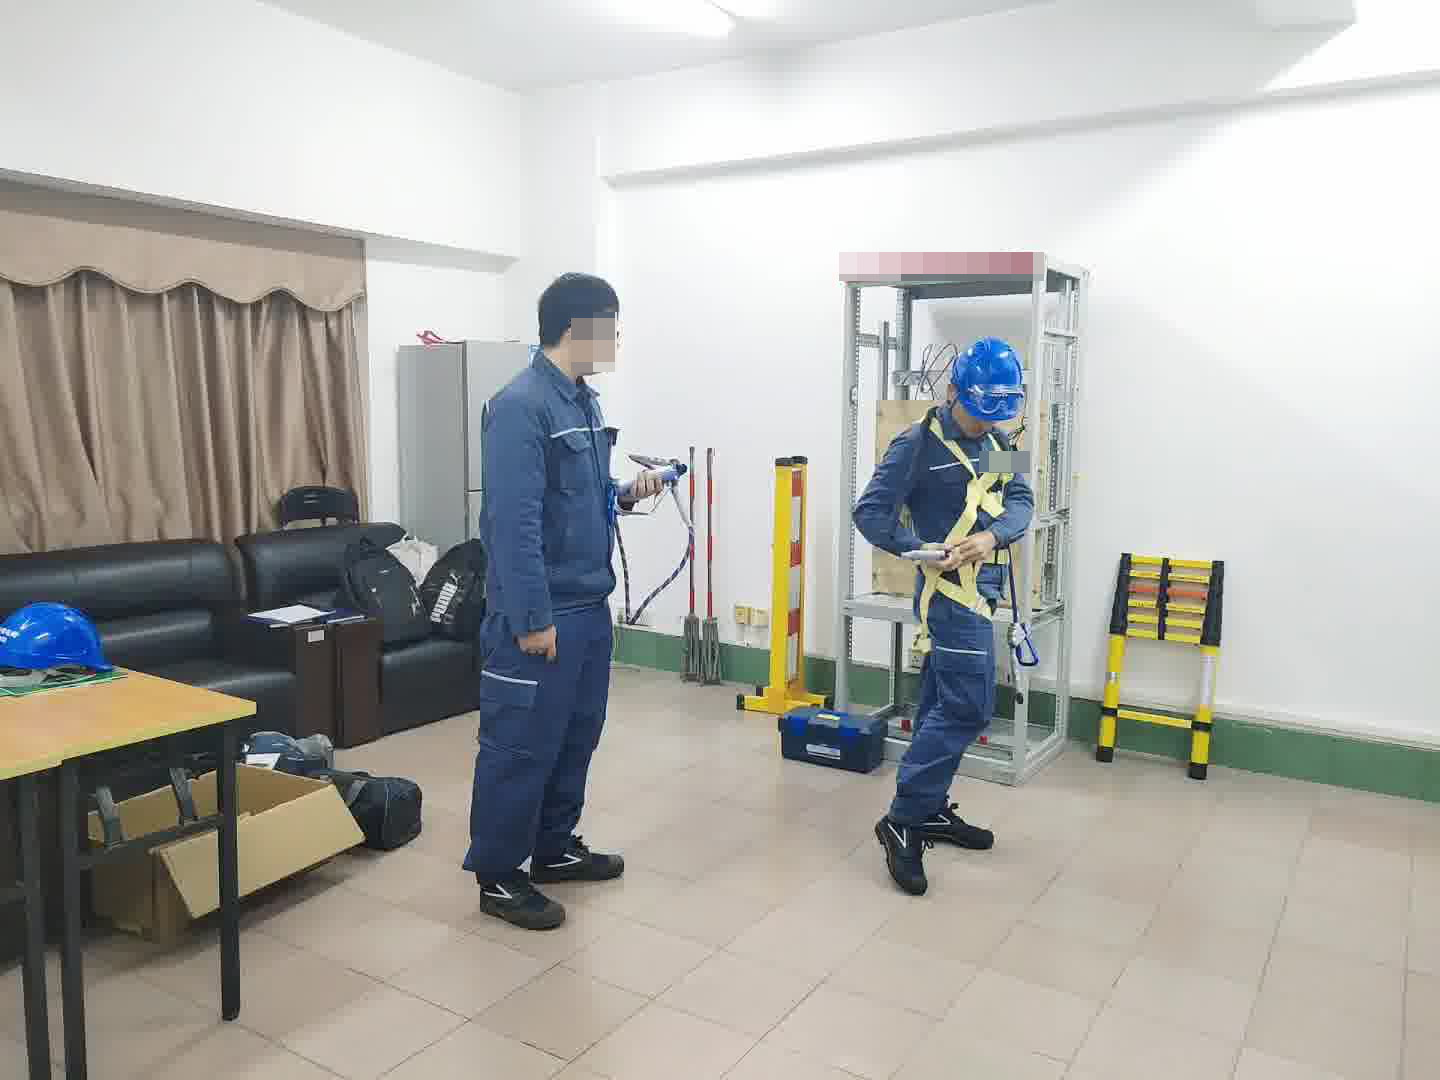downsuit: (468, 625, 612, 869), (893, 593, 1003, 811)
halt: (948, 335, 1029, 436)
hand: (923, 527, 992, 575), (621, 467, 661, 516), (519, 621, 559, 665)
noear: (563, 317, 607, 365)
person: (457, 267, 636, 935), (848, 330, 1040, 898)
safebelt: (910, 410, 1017, 656)
unhalt: (534, 270, 626, 372)
upsuit: (474, 354, 621, 615), (847, 413, 1035, 588)
